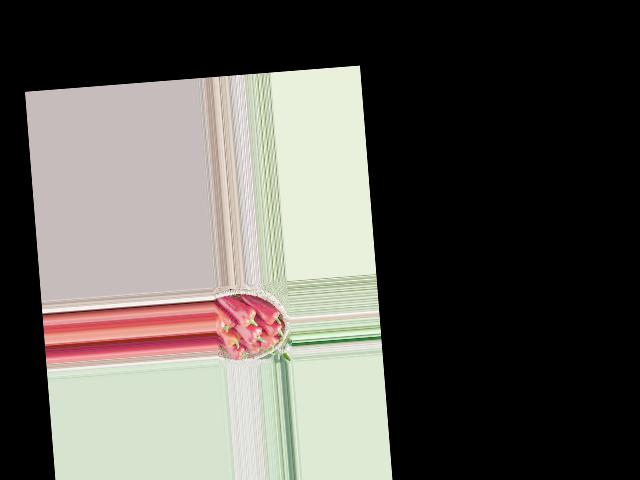bell_pepper: (264, 320, 286, 339)
